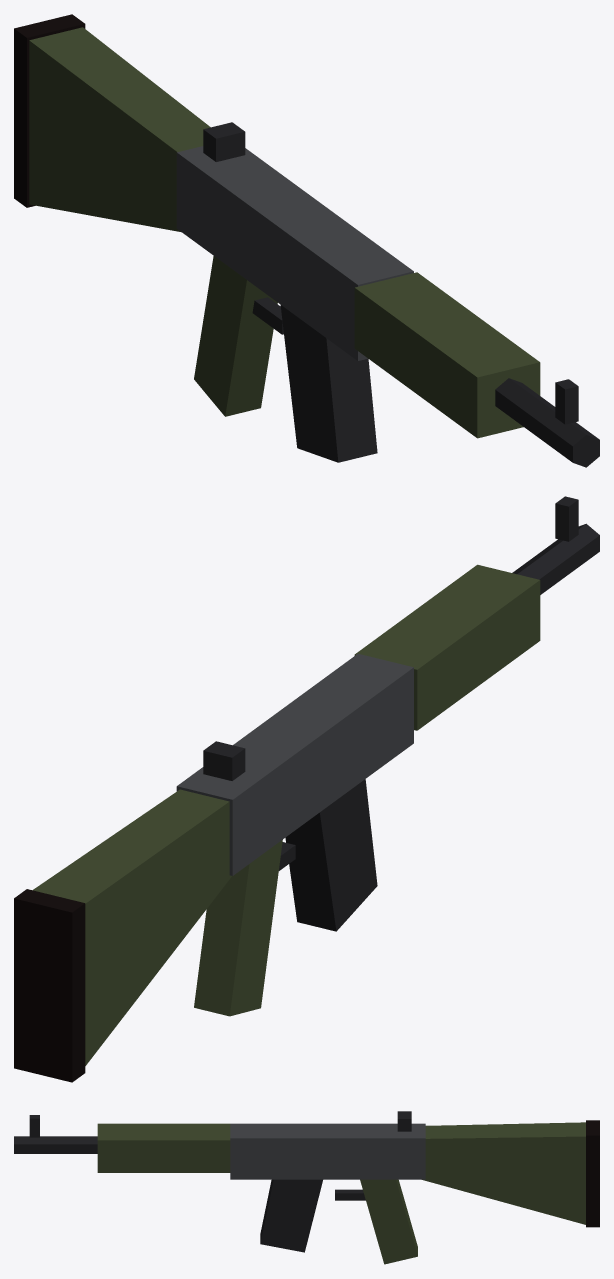
Rendered from militia_carbine.glb.
3 renders of one model, top to bottom at view 1: azimuth 30°, elevation 25°; view 2: azimuth 150°, elevation 25°; view 3: azimuth 270°, elevation 25°, orthographic. The views are drawn at different scales.
Visible parts, largest first — view 1: militia_carbine; view 2: militia_carbine; view 3: militia_carbine.
Boxes of the visible parts, bbox=[...] form: militia_carbine: bbox=[14, 14, 599, 467]; militia_carbine: bbox=[14, 496, 599, 1082]; militia_carbine: bbox=[14, 1111, 599, 1264].
Size of the model in its own units: 0.056 by 0.2288 by 0.84.
